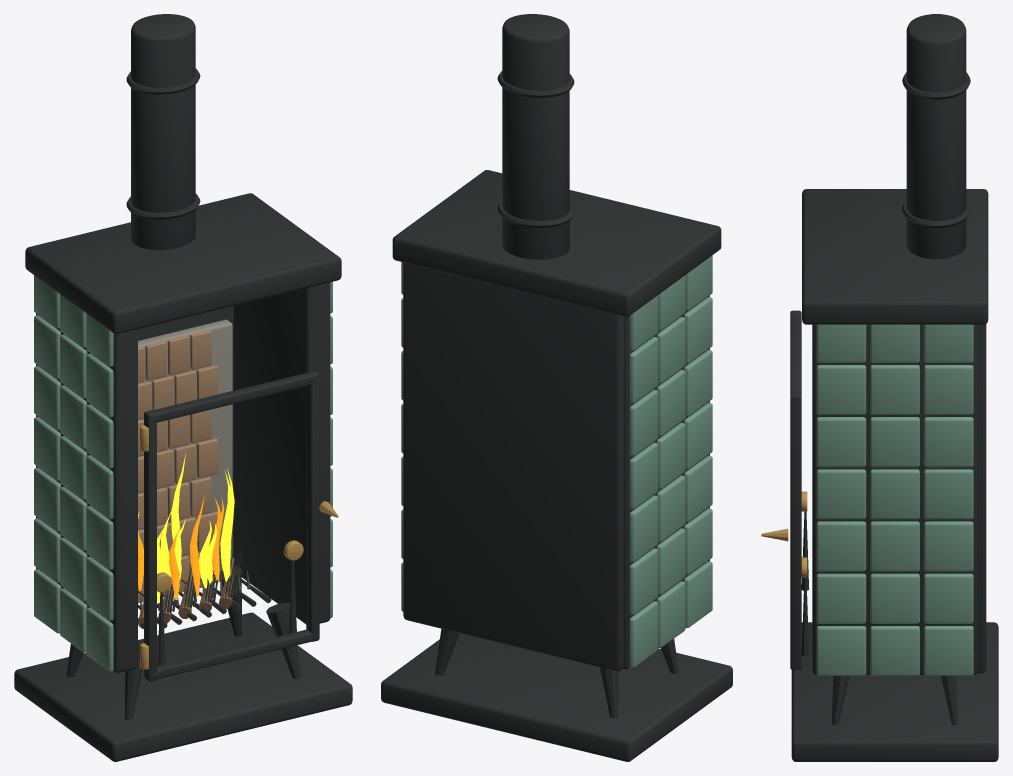
The model's file is tiled-corner-stove.glb.
The picture shows the model from 3 angles, left to right: view 1: azimuth 30°, elevation 25°; view 2: azimuth 150°, elevation 25°; view 3: azimuth 270°, elevation 25°; orthographic projection. The views are drawn at different scales.
Parts seen in each view (by area): view 1: tiled-corner-stove; view 2: tiled-corner-stove; view 3: tiled-corner-stove.
Part boxes in pixels (box(x1,y1,x2,y2)): tiled-corner-stove: box(14, 14, 352, 761); tiled-corner-stove: box(381, 14, 732, 761); tiled-corner-stove: box(761, 14, 998, 761).
Size of the model in its own units: 0.65 by 1.7 by 0.54.
